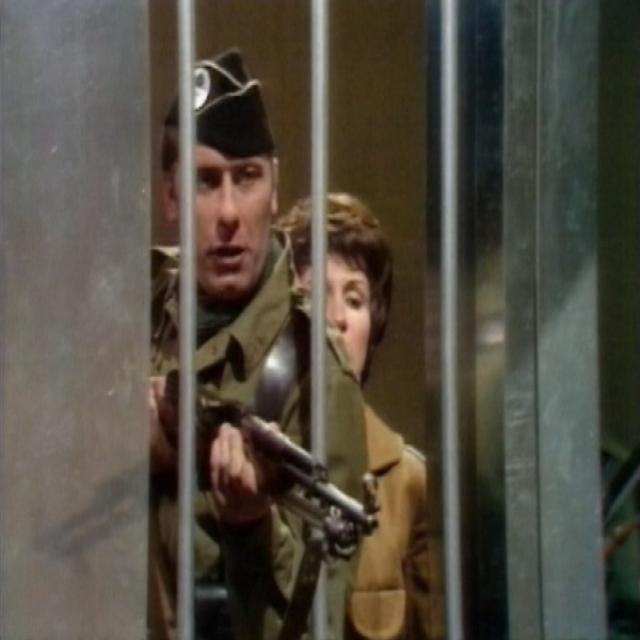rifle: (158, 371, 391, 568)
